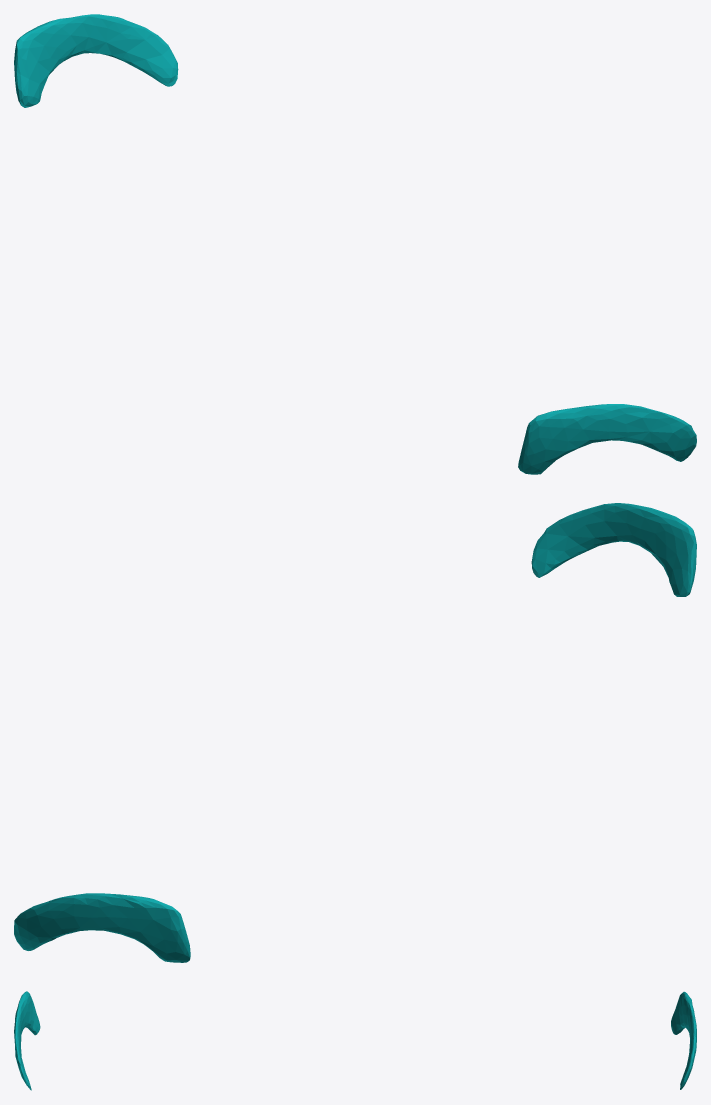
The picture shows the model from 3 angles, top to bottom: view 1: azimuth 30°, elevation 25°; view 2: azimuth 150°, elevation 25°; view 3: azimuth 270°, elevation 25°; orthographic projection. The views are drawn at different scales.
Parts seen in each view (by area): view 1: 990.obj; view 2: 990.obj; view 3: 990.obj.
Part boxes in pixels (left/top/right/bottom): 990.obj: left=14, top=14, right=696, bottom=474; 990.obj: left=14, top=503, right=696, bottom=962; 990.obj: left=14, top=991, right=696, bottom=1090.
Bounding box in the file's own units: 1756 × 886 × 9736.
